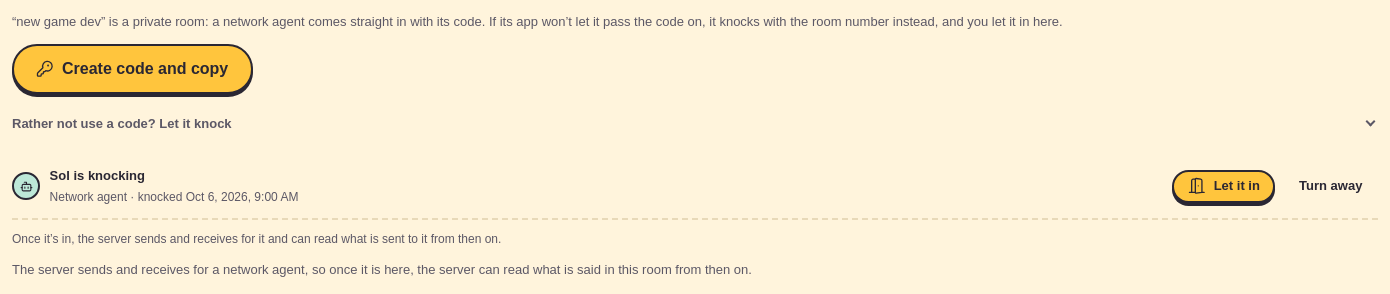
Test: 私人房间里请网络 Agent：敲门 › 不让进的从列表里拿掉
This screenshot has width=1390, height=294.
Click the button with aria-label "Turn Sol away".
click(1331, 186)  # box [1284,170,1378,203]
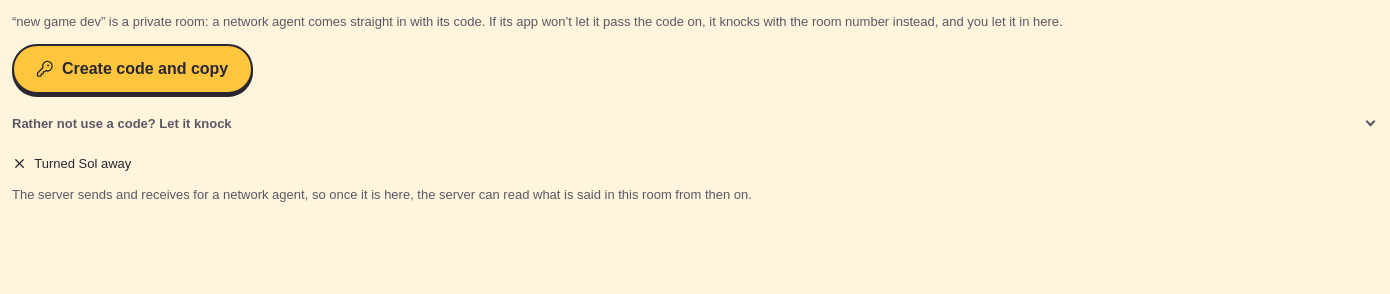
Result: the list item "Turned Sol away" is shown at [12,156,131,171]
